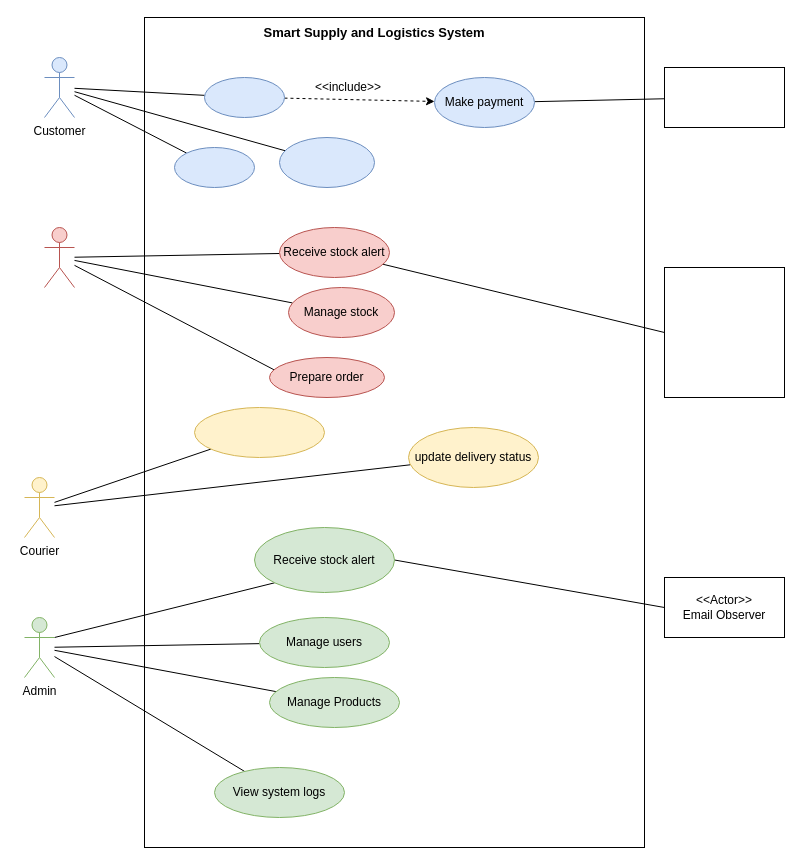
This 802x865 diagram has some shape labels left out. Here are the shapes that lost their labels. From the top down, the centre of each, then its label:
point (244, 97): Create order
point (724, 97): <<Actor>> CarrierAPI
point (214, 167): browse products
point (326, 162): Track order
point (59, 257): WarehouseStaff
point (724, 332): <<Actor>> Internal Notification Observer
point (259, 432): view assigned orders
